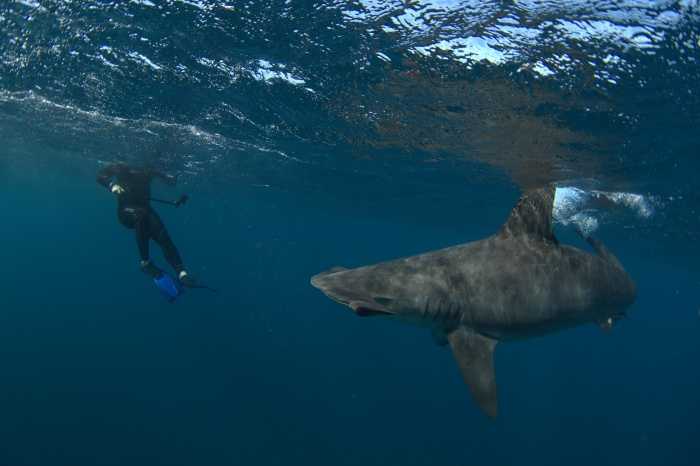Hammer: (284, 168, 668, 431)
